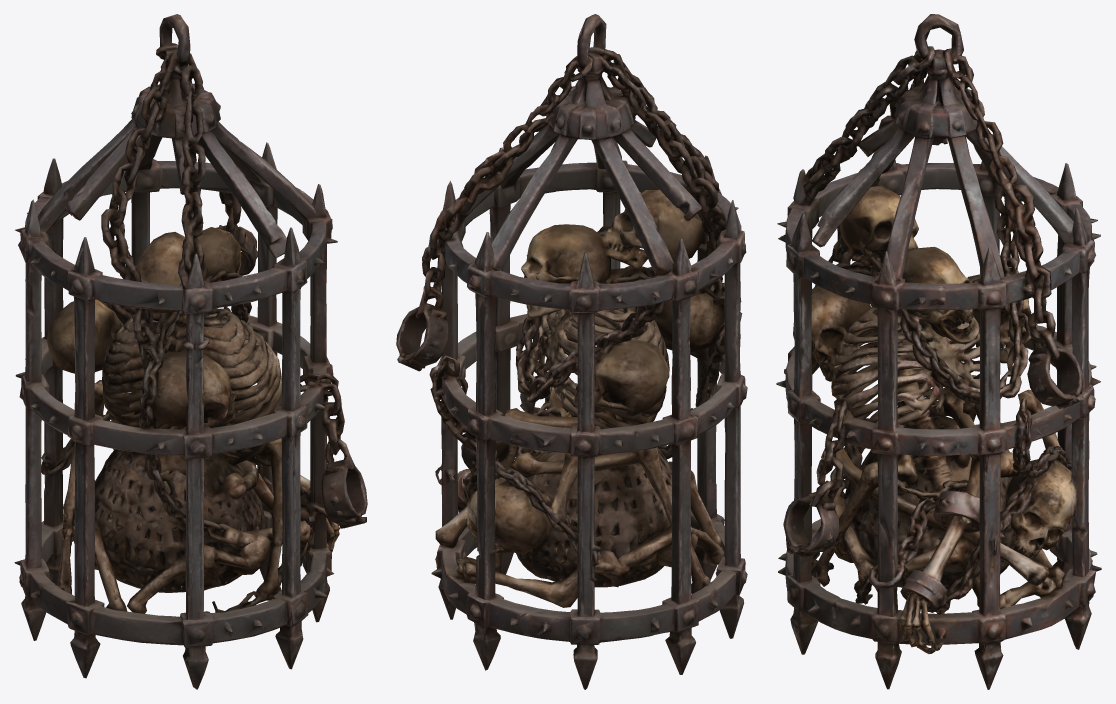
The picture shows the model from 3 angles, left to right: view 1: azimuth 30°, elevation 25°; view 2: azimuth 150°, elevation 25°; view 3: azimuth 270°, elevation 25°; orthographic projection.
Parts seen in each view (by area): view 1: tripo_node_2db62096-0a01-4944-a30f-70f2b5698ccb; view 2: tripo_node_2db62096-0a01-4944-a30f-70f2b5698ccb; view 3: tripo_node_2db62096-0a01-4944-a30f-70f2b5698ccb.
Part boxes in pixels (bbox=[...]): tripo_node_2db62096-0a01-4944-a30f-70f2b5698ccb: bbox=[14, 14, 367, 689]; tripo_node_2db62096-0a01-4944-a30f-70f2b5698ccb: bbox=[396, 14, 747, 689]; tripo_node_2db62096-0a01-4944-a30f-70f2b5698ccb: bbox=[776, 14, 1101, 689].
Size of the model in its own units: 0.4776 by 0.9797 by 0.4666.
1 material, 1 textured.
